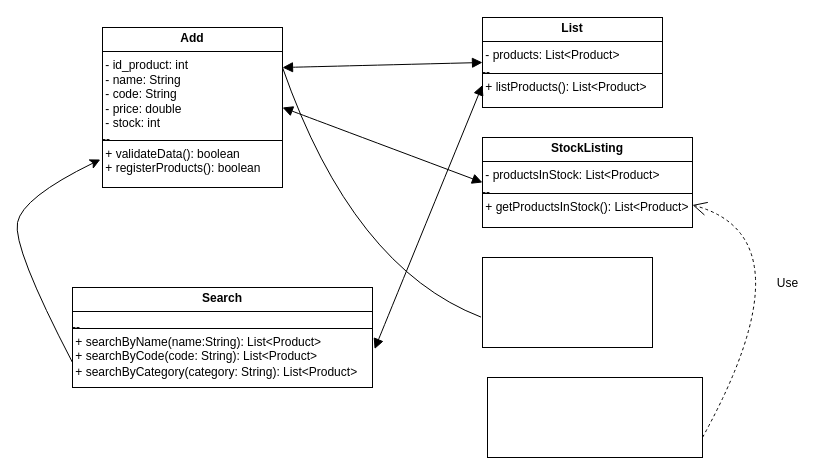
This 816x475 diagram has some shape labels left out. Each missing label, with the centre of its shape:
"Delete -- + deleteProduct(code: String ): boolean" goes at (x=594, y=417).
"Update -- + updateStock(code: String, newAmount: int): boolean" goes at (x=567, y=302).
